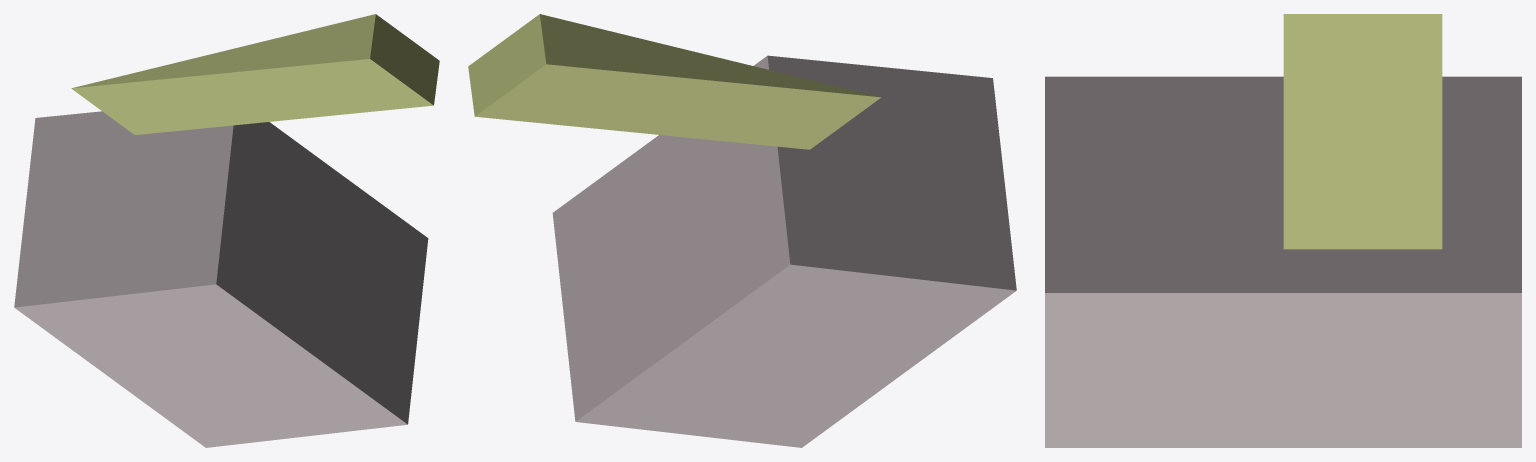
3 views of the same model, side by side, from view 1: azimuth 30°, elevation 25°; view 2: azimuth 150°, elevation 25°; view 3: azimuth 270°, elevation 25° (orthographic). The views are drawn at different scales.
Visible parts, largest first — view 1: 0_0_3_2_0_0_1_0_1_0; view 2: 0_0_3_2_0_0_1_0_1_0; view 3: 0_0_3_2_0_0_1_0_1_0.
Boxes of the visible parts, x1,y1,x2,y2 form: 0_0_3_2_0_0_1_0_1_0: (14,14,439,447); 0_0_3_2_0_0_1_0_1_0: (468,14,1016,447); 0_0_3_2_0_0_1_0_1_0: (1045,14,1521,447).
Size of the model in its own units: 17.87 by 13.6 by 18.
